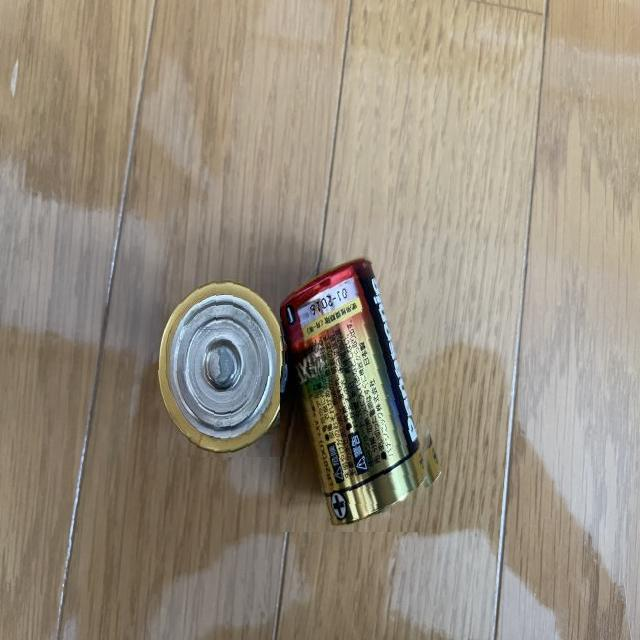battery: (280, 253, 442, 532), (157, 268, 295, 457)
